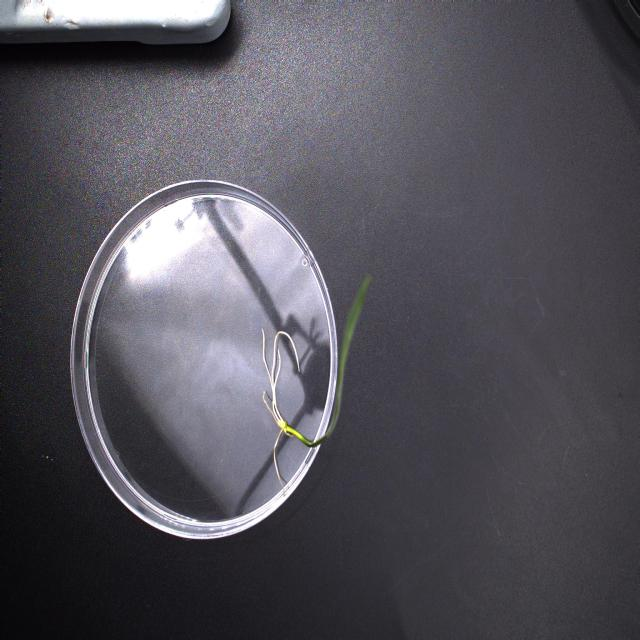leaf: (300, 275, 370, 446)
root: (261, 329, 300, 494)
